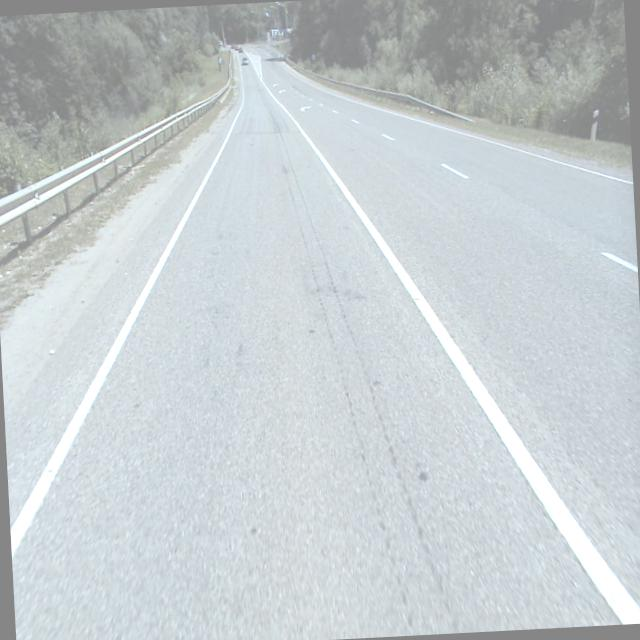road: (5, 44, 640, 640)
